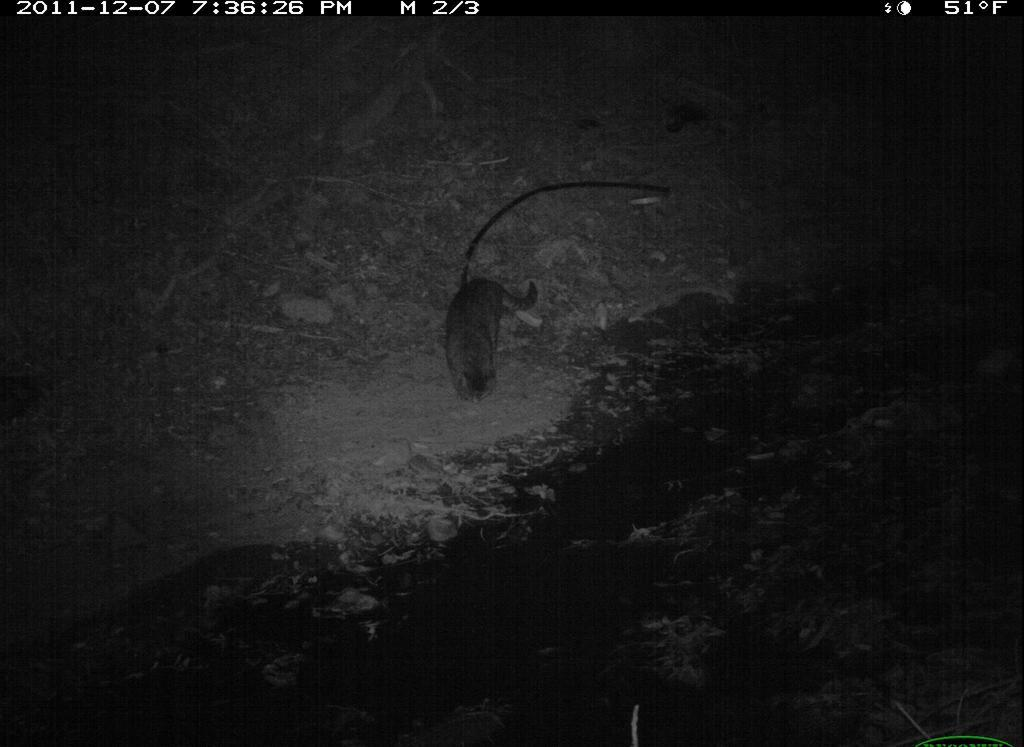cat: (434, 264, 552, 405)
